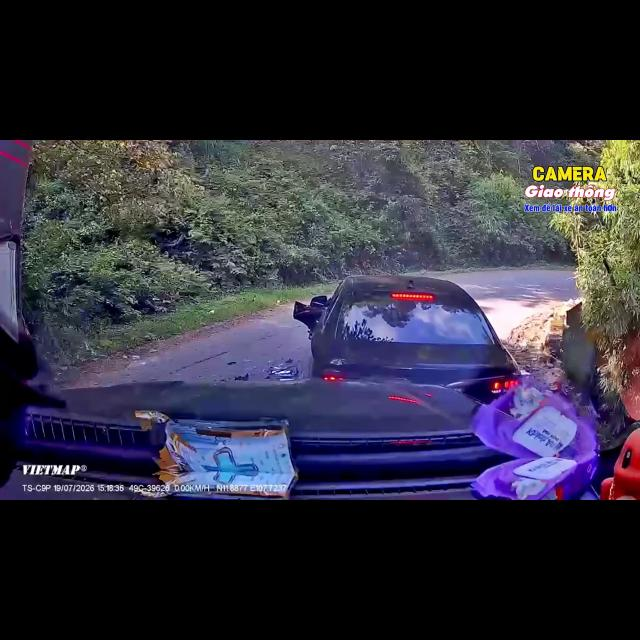car: (293, 275, 520, 402)
